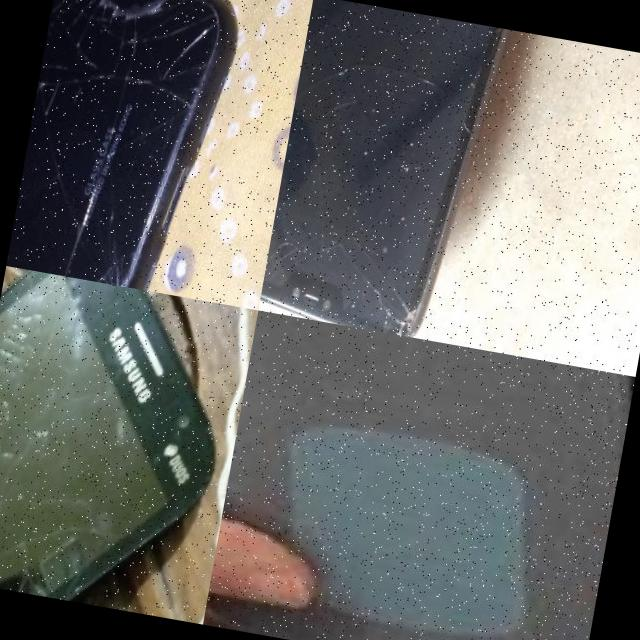screen crack: (0, 264, 170, 608), (312, 17, 502, 177), (296, 189, 456, 340), (40, 0, 261, 101), (53, 210, 168, 292)
